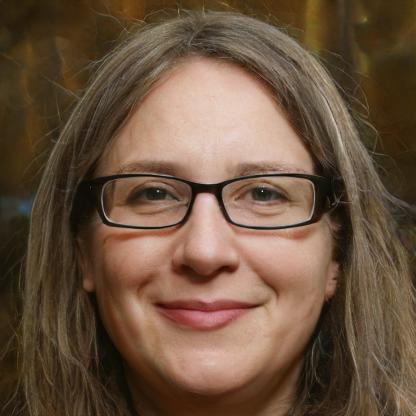glasses: (88, 166, 328, 232)
